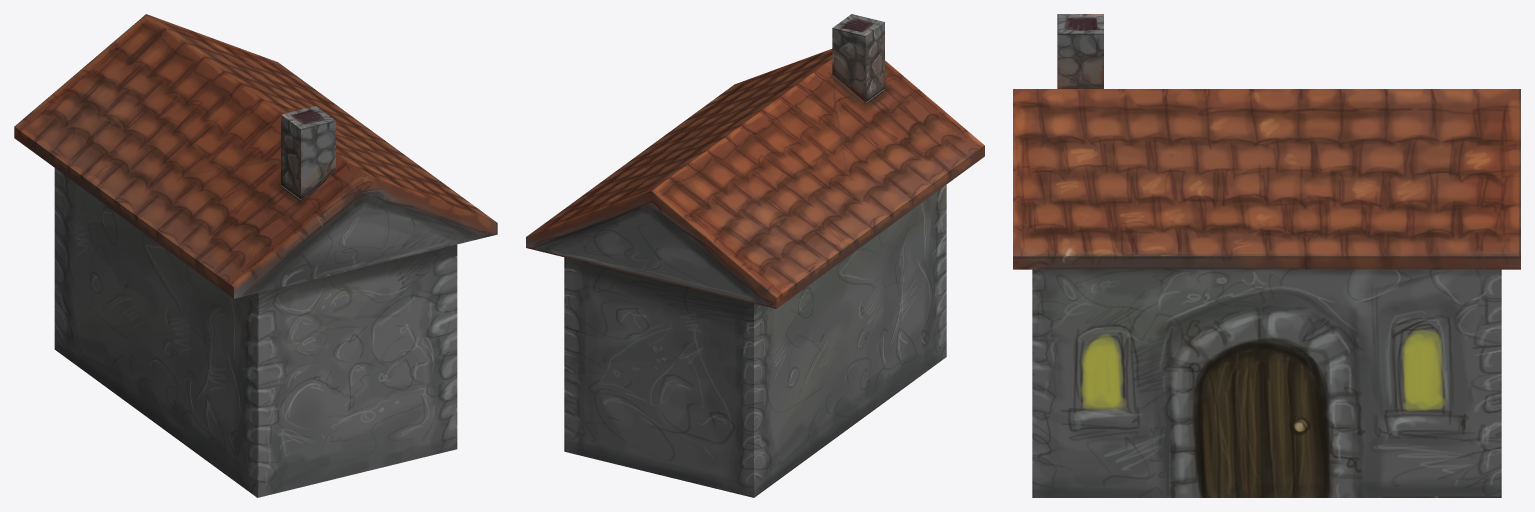
File: House.fbx
The picture shows the model from 3 angles, left to right: view 1: azimuth 30°, elevation 25°; view 2: azimuth 150°, elevation 25°; view 3: azimuth 270°, elevation 25°; orthographic projection. The views are drawn at different scales.
Parts seen in each view (by area): view 1: Cube; view 2: Cube; view 3: Cube.
Part boxes in pixels (x1=…): Cube: x1=14, y1=14, x2=497, y2=497; Cube: x1=526, y1=14, x2=984, y2=497; Cube: x1=1013, y1=14, x2=1520, y2=497.
Size of the model in its own units: 2.64 by 3.32 by 3.81.
